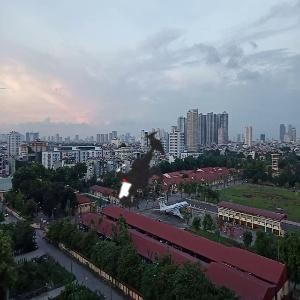drone: (73, 106, 197, 230)
